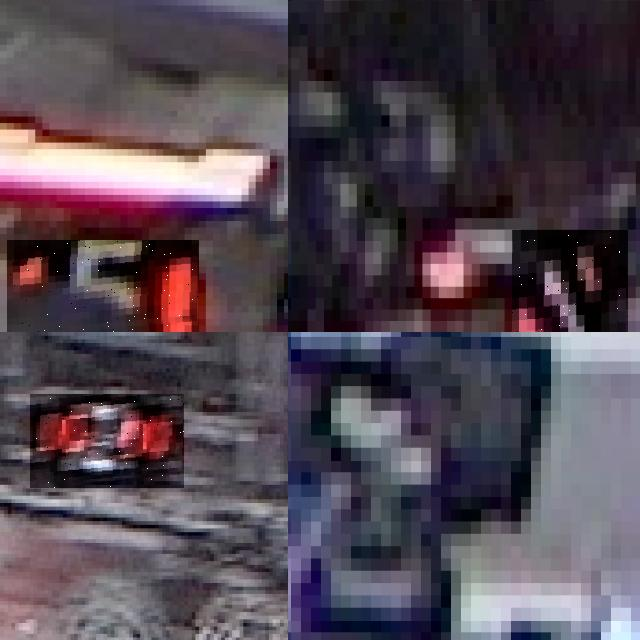R1: (512, 229, 627, 332)
R2: (30, 394, 184, 488)
R5: (7, 240, 199, 332)
